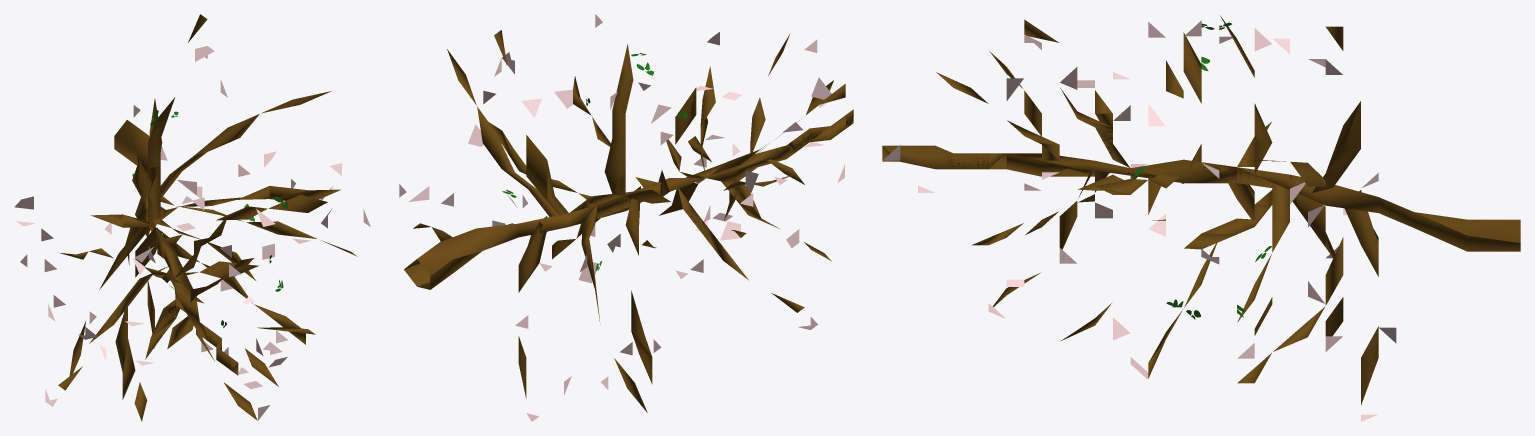
The model's file is sakura.obj.
3 views of the same model, side by side, from view 1: azimuth 30°, elevation 25°; view 2: azimuth 150°, elevation 25°; view 3: azimuth 270°, elevation 25° (orthographic). The views are drawn at different scales.
Visible parts, largest first — view 1: Foliage001; view 2: Foliage001; view 3: Foliage001.
Part boxes in pixels (<box>): Foliage001: <box>14,14,370,421</box>; Foliage001: <box>399,14,853,421</box>; Foliage001: <box>882,15,1520,421</box>.
Size of the model in its own units: 0.3 by 0.26 by 0.36.
